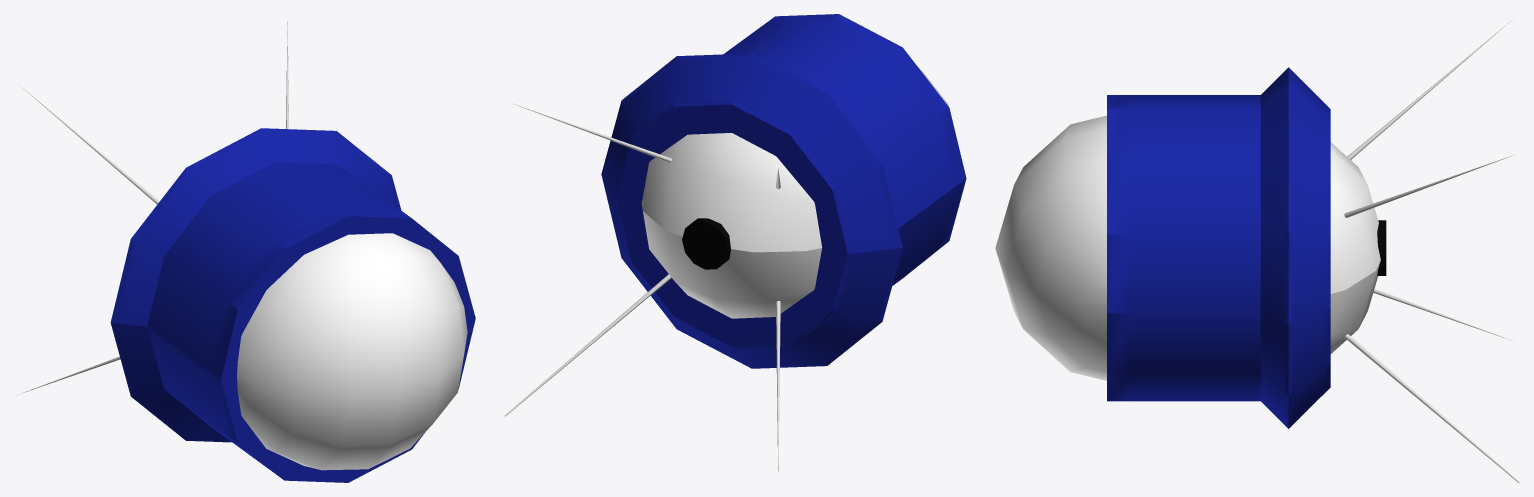
The model's file is probe.obj.
3 views of the same model, side by side, from view 1: azimuth 30°, elevation 25°; view 2: azimuth 150°, elevation 25°; view 3: azimuth 270°, elevation 25° (orthographic). The views are drawn at different scales.
Parts seen in each view (by area): view 1: group8, group4, group6, group2; view 2: group5, group7, group4, group9, group1, group0, group3; view 3: group4, group8, group5, group6, group7, group1, group2, group3.
Boxes of the visible parts, bbox=[...] form: group8: bbox=[237, 233, 467, 470]; group4: bbox=[147, 162, 475, 482]; group6: bbox=[110, 128, 401, 442]; group2: bbox=[17, 83, 159, 204]; group5: bbox=[601, 53, 902, 368]; group7: bbox=[641, 133, 821, 318]; group4: bbox=[724, 14, 966, 285]; group9: bbox=[682, 218, 730, 269]; group1: bbox=[504, 274, 671, 416]; group0: bbox=[776, 301, 780, 471]; group3: bbox=[510, 102, 671, 162]; group4: bbox=[1107, 95, 1260, 401]; group8: bbox=[995, 115, 1106, 380]; group5: bbox=[1288, 67, 1330, 428]; group6: bbox=[1260, 67, 1288, 428]; group7: bbox=[1330, 142, 1380, 353]; group1: bbox=[1344, 334, 1519, 482]; group2: bbox=[1347, 17, 1515, 159]; group3: bbox=[1344, 155, 1513, 217].
Bounding box in the file's own units: 1.3 × 1.3 × 1.88.
